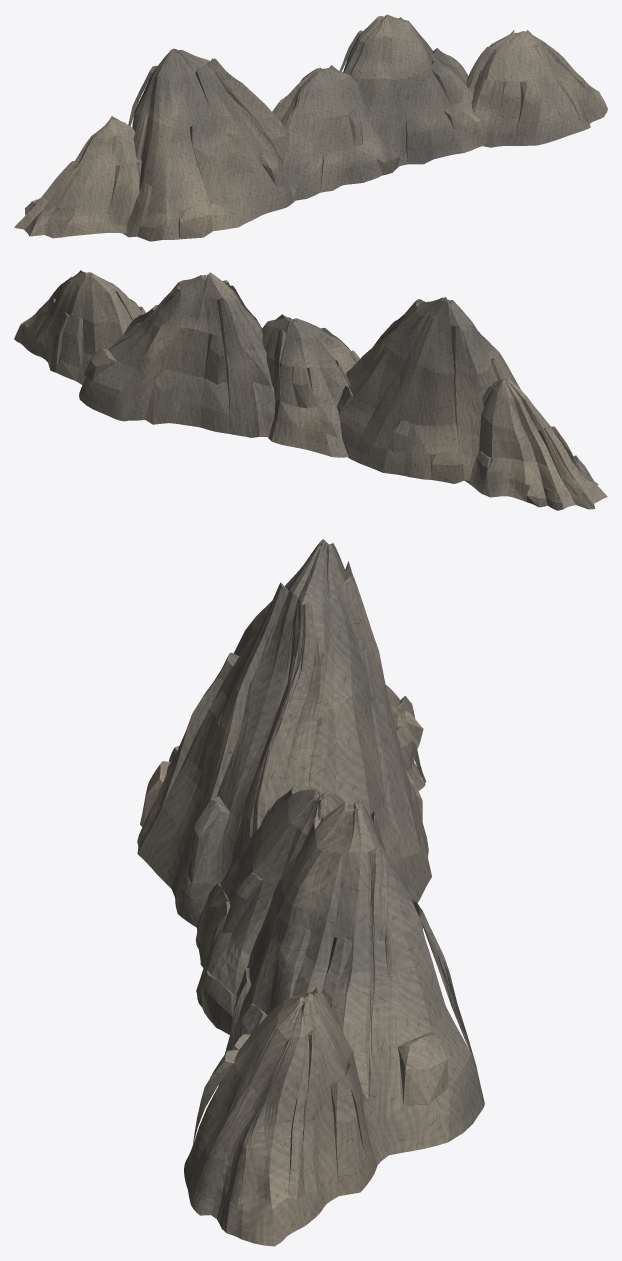
3 renders of one model, top to bottom at view 1: azimuth 30°, elevation 25°; view 2: azimuth 150°, elevation 25°; view 3: azimuth 270°, elevation 25°, orthographic. The views are drawn at different scales.
Parts seen in each view (by area): view 1: F13_stone; view 2: F13_stone; view 3: F13_stone.
Boxes of the visible parts, <box> form: F13_stone: <box>14,14,607,241</box>; F13_stone: <box>14,270,607,510</box>; F13_stone: <box>137,539,484,1246</box>.
Bounding box in the file's own units: 54.3 × 13.92 × 14.42.
1 material, 1 textured.
